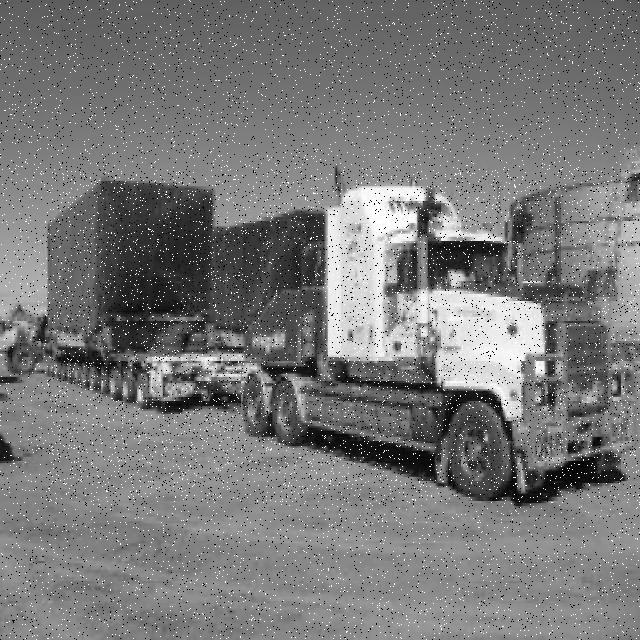Box Truck: (44, 169, 640, 502)
